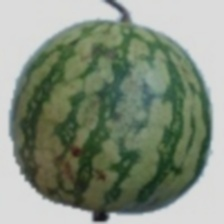watermelon: (21, 4, 199, 203)
